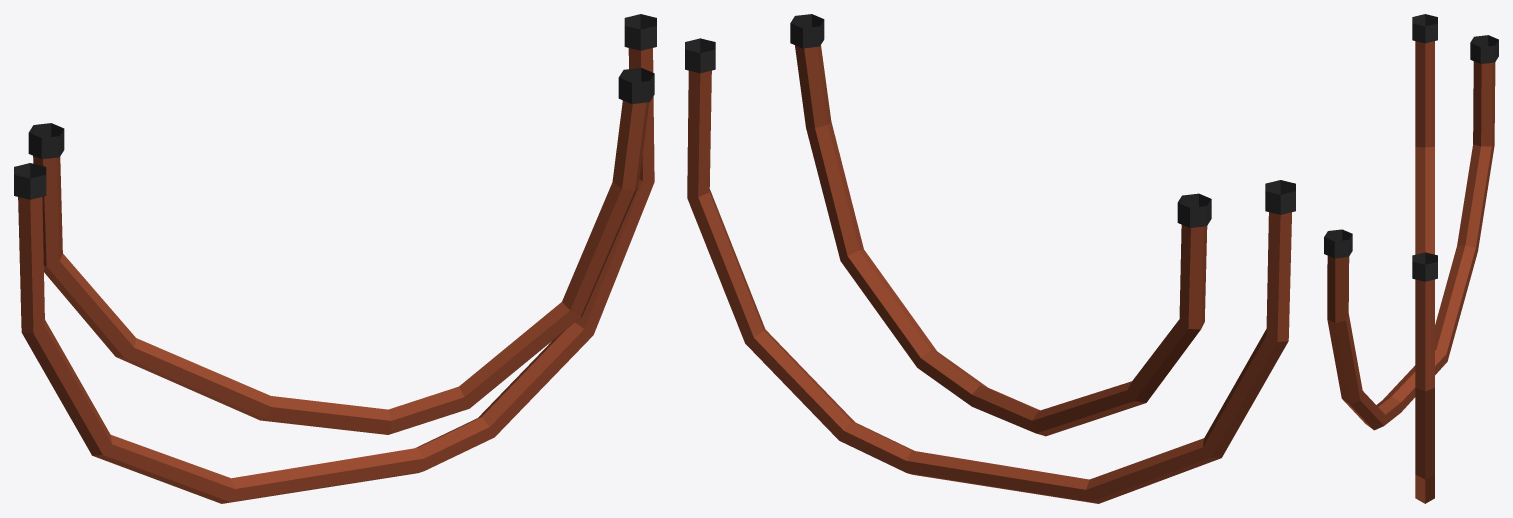
Rendered from SM_Buildings_Part_27.fbx.
3 renders of one model, left to right at view 1: azimuth 30°, elevation 25°; view 2: azimuth 150°, elevation 25°; view 3: azimuth 270°, elevation 25°, orthographic. The views are drawn at different scales.
Visible parts, largest first — view 1: SM_Buildings_Part_27; view 2: SM_Buildings_Part_27; view 3: SM_Buildings_Part_27.
Part boxes in pixels (x1=…): SM_Buildings_Part_27: x1=14, y1=14, x2=656, y2=503; SM_Buildings_Part_27: x1=685, y1=14, x2=1295, y2=503; SM_Buildings_Part_27: x1=1324, y1=14, x2=1498, y2=503.
Bounding box in the file's own units: 123 × 72.42 × 36.09.
